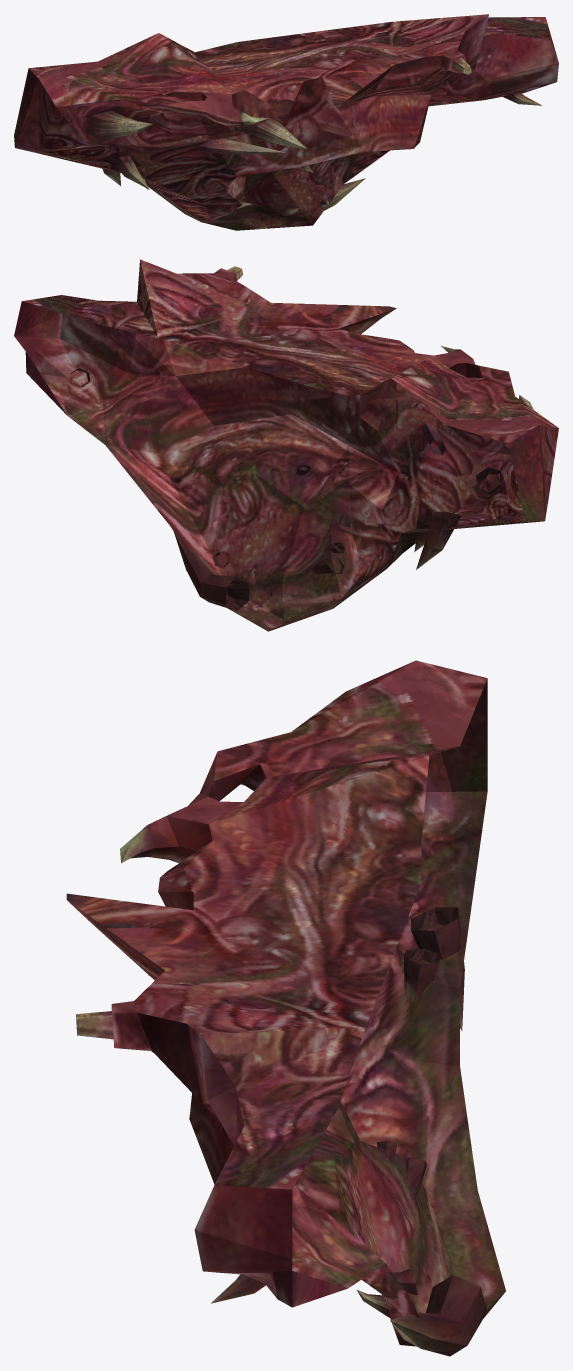
The model's file is huodongfuben_655_baijian03.obj.
3 renders of one model, top to bottom at view 1: azimuth 30°, elevation 25°; view 2: azimuth 150°, elevation 25°; view 3: azimuth 270°, elevation 25°, orthographic. The views are drawn at different scales.
Parts seen in each view (by area): view 1: huodongfuben_655_baijian03; view 2: huodongfuben_655_baijian03; view 3: huodongfuben_655_baijian03.
Part boxes in pixels (left/top/right/bottom): huodongfuben_655_baijian03: left=14, top=14, right=558, bottom=230; huodongfuben_655_baijian03: left=14, top=259, right=558, bottom=631; huodongfuben_655_baijian03: left=66, top=660, right=505, bottom=1356.
Size of the model in its own units: 2269 by 987 by 868.
Materials: 1 (1 with a texture image).
